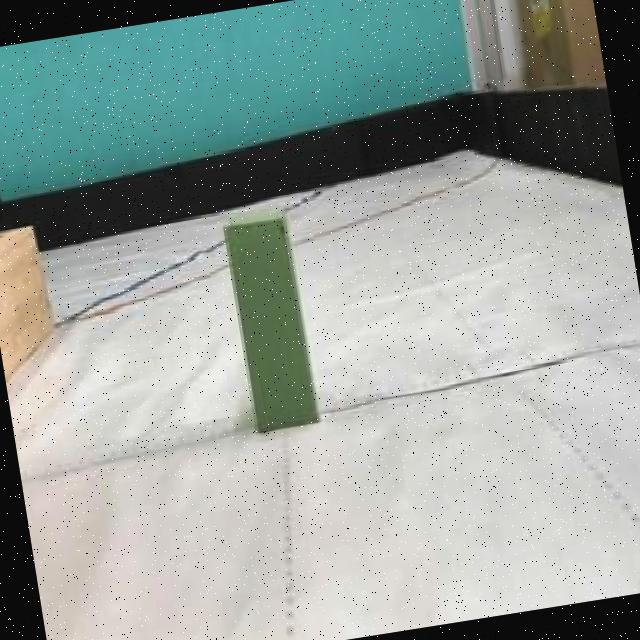greenbox: (227, 212, 320, 436)
